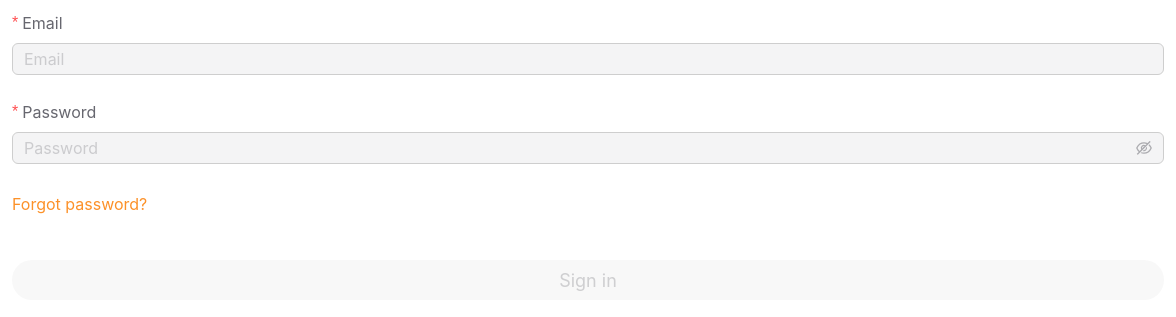
Test case: SignInForm › maps field error to email input
In the field with placeholder "Email": (588, 59) [12,43,1164,75], type "user@example.com"
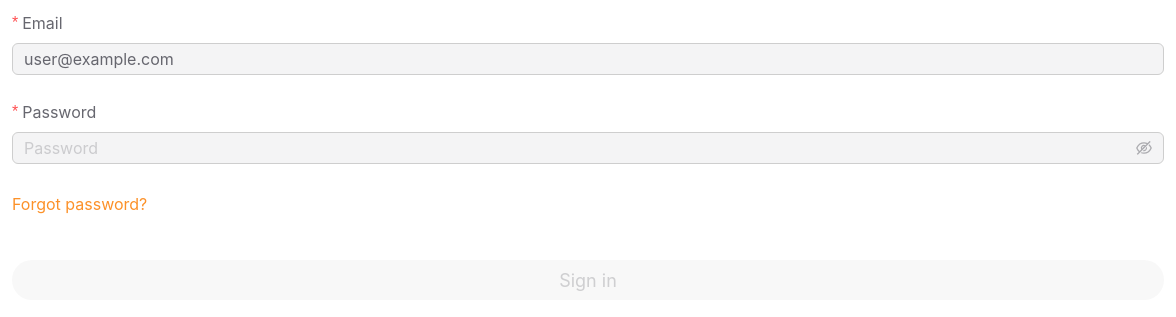
In the password field with placeholder "Password": (578, 148) [24,136,1132,160], type "Secret123!"
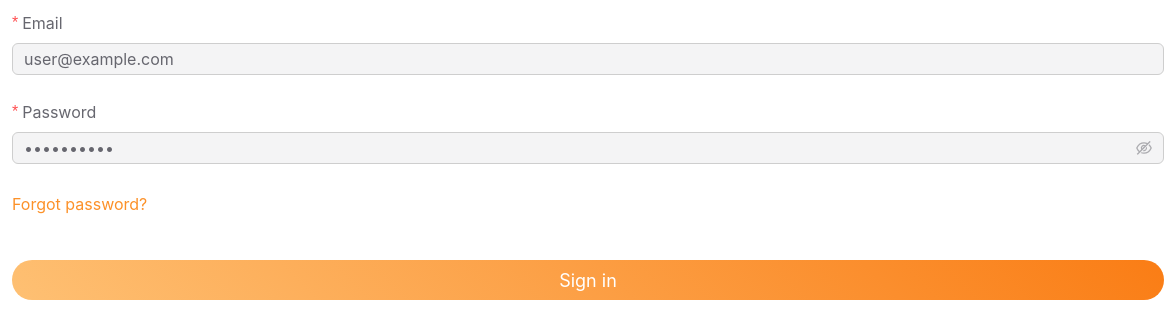
Click the button "Sign in": click(588, 280) [12,260,1164,300]
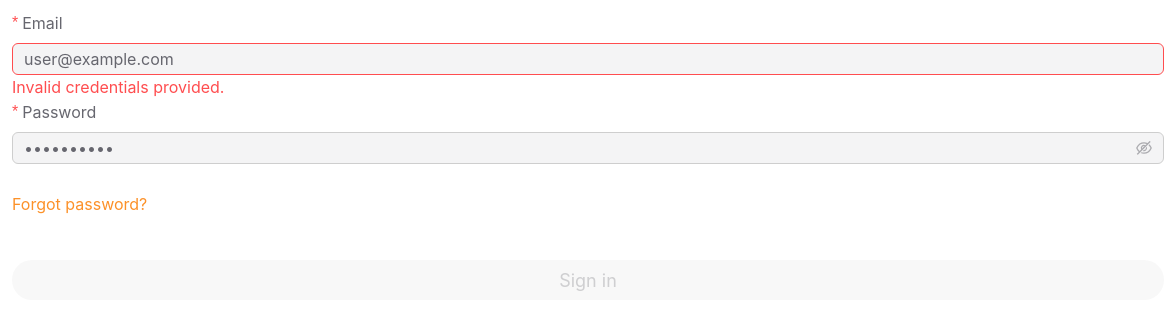
Check: the text "Invalid credentials provided." is shown, box [12,77,224,97]
